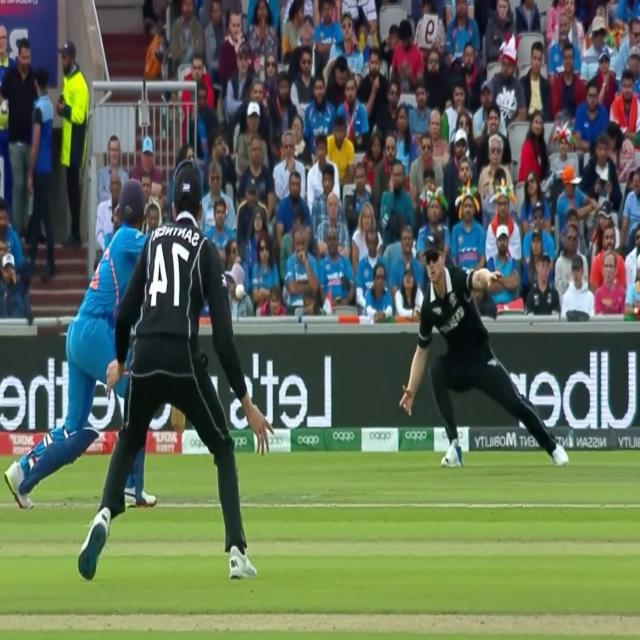ball: (232, 284, 248, 302)
